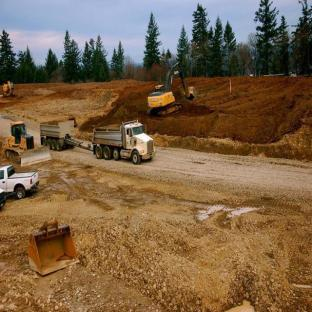ExcavationMachinery: (139, 56, 221, 119)
Vehicle: (90, 117, 151, 169)
